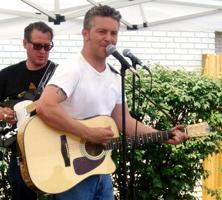person: (37, 6, 187, 199)
